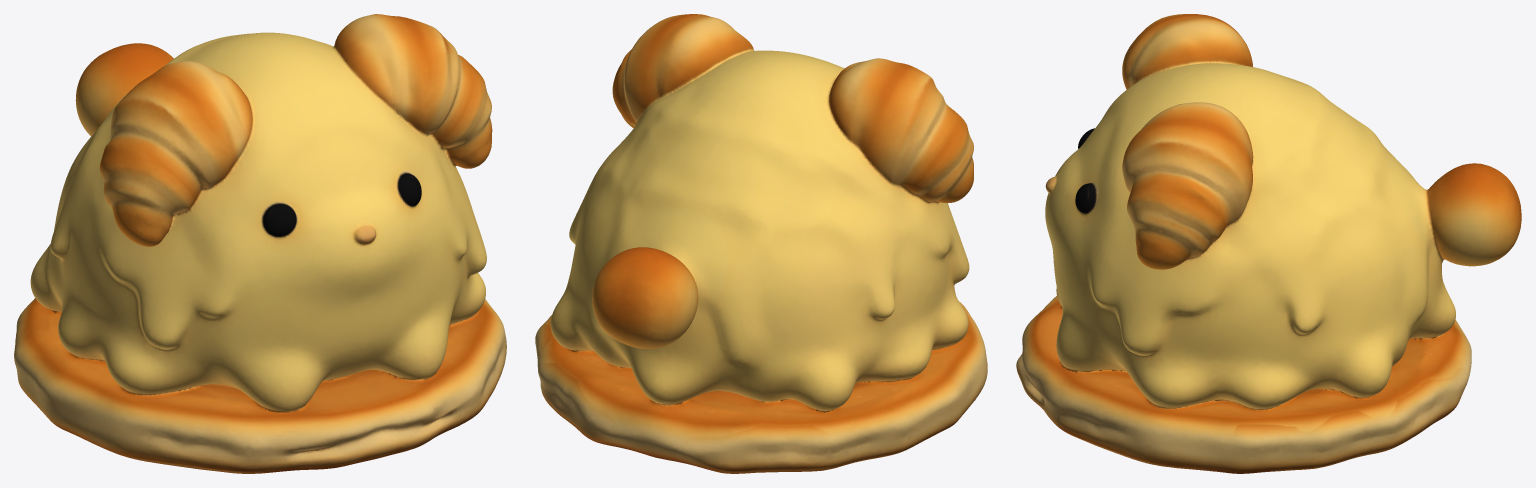
The model's file is croissant-ram.glb.
3 views of the same model, side by side, from view 1: azimuth 30°, elevation 25°; view 2: azimuth 150°, elevation 25°; view 3: azimuth 270°, elevation 25° (orthographic). The views are drawn at different scales.
Bounding box in the file's own units: 1.56 × 1.24 × 1.75.
Materials: 1 (1 with a texture image).
